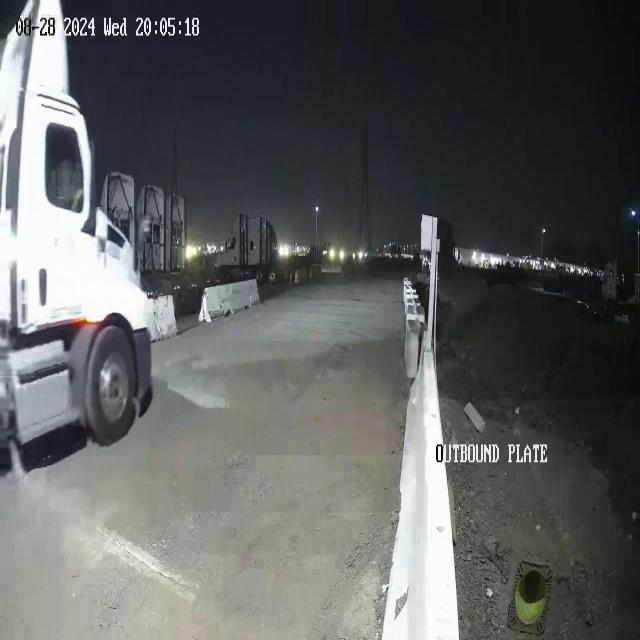TRUCK_IN: (1, 1, 155, 462)
